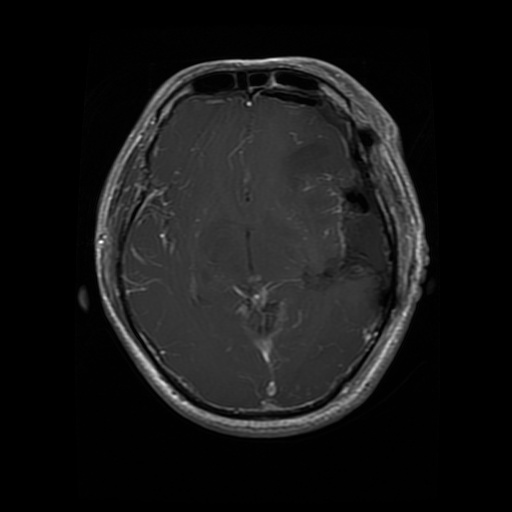glioma: (283, 102, 387, 289)
